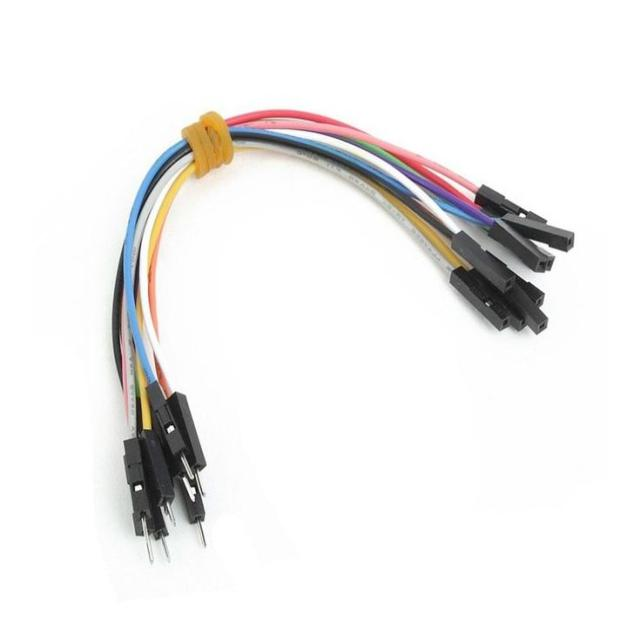Jumper Wires: (99, 95, 588, 579)
